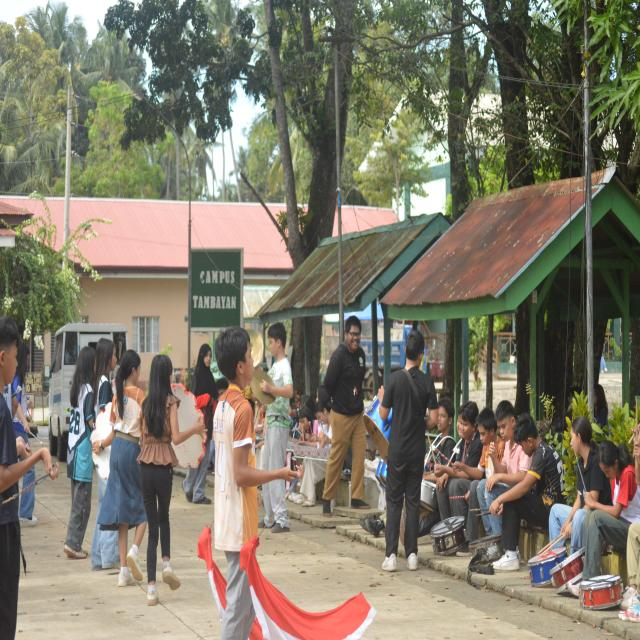person: (214, 327, 299, 639), (138, 355, 207, 605), (0, 398, 59, 639), (378, 330, 437, 571), (93, 350, 146, 586), (490, 414, 563, 571), (323, 316, 369, 516), (549, 416, 611, 553), (583, 441, 639, 579), (457, 408, 504, 556), (64, 347, 95, 559), (478, 401, 530, 511), (435, 402, 482, 519), (183, 344, 217, 504), (262, 323, 293, 470), (92, 475, 119, 570), (13, 342, 30, 444), (594, 385, 608, 427)
